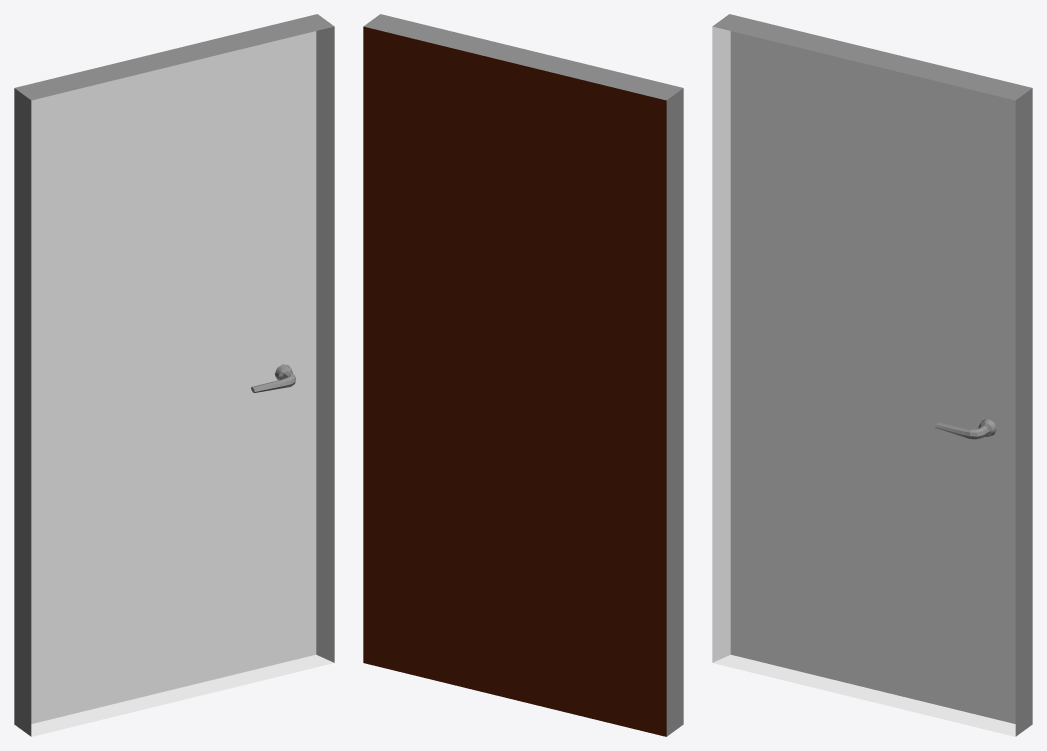
The model's file is PuertaOficina.FBX.
The picture shows the model from 3 angles, left to right: view 1: azimuth 30°, elevation 25°; view 2: azimuth 150°, elevation 25°; view 3: azimuth 330°, elevation 25°; orthographic projection.
Visible parts, largest first — view 1: Box001; view 2: Box001; view 3: Box001.
Boxes of the visible parts, x1,y1,x2,y2 form: Box001: (14, 14, 334, 736); Box001: (363, 14, 683, 736); Box001: (712, 14, 1032, 736).
Size of the model in its own units: 3.81 by 7.63 by 0.4064.
